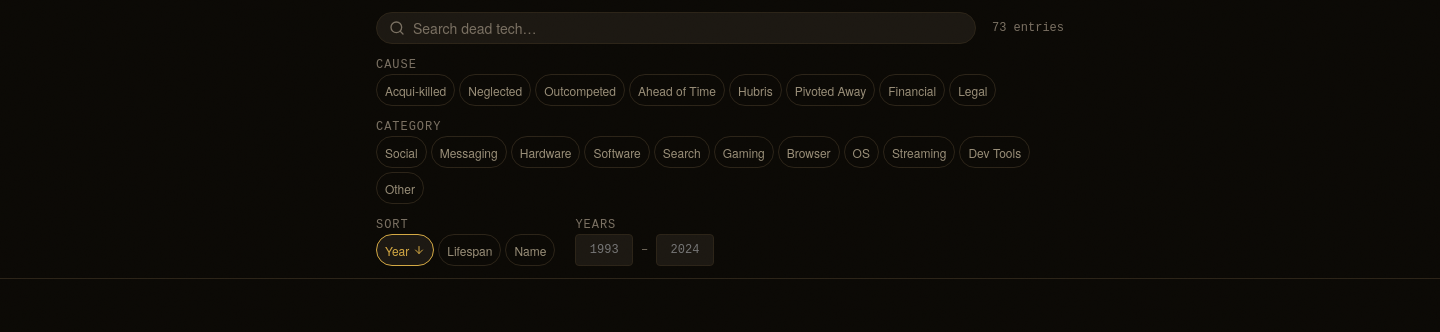
Test: FilterBar › clears all filters when clicking Clear filters
This screenshot has width=1440, height=332.
Click the button "Neglected": (495, 90) [459,74,531,106]
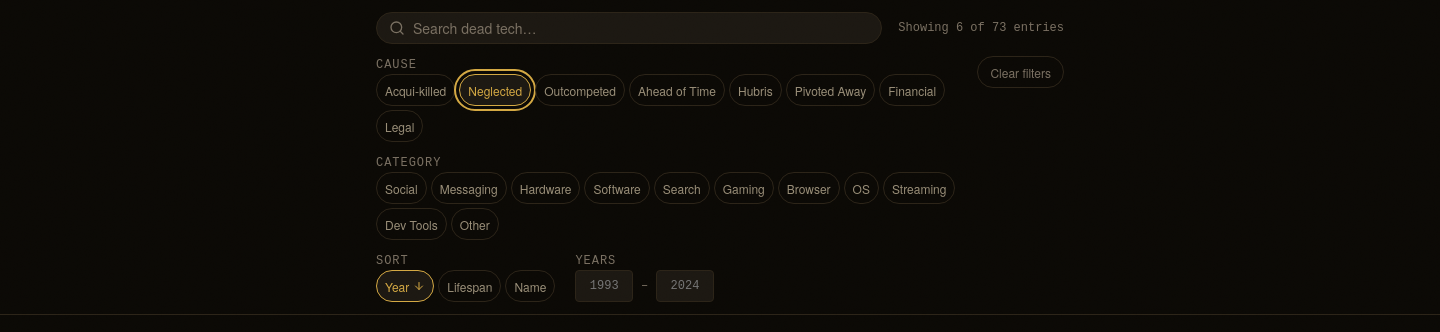
Click the button "Clear filters": (1021, 72) [977,56,1064,88]
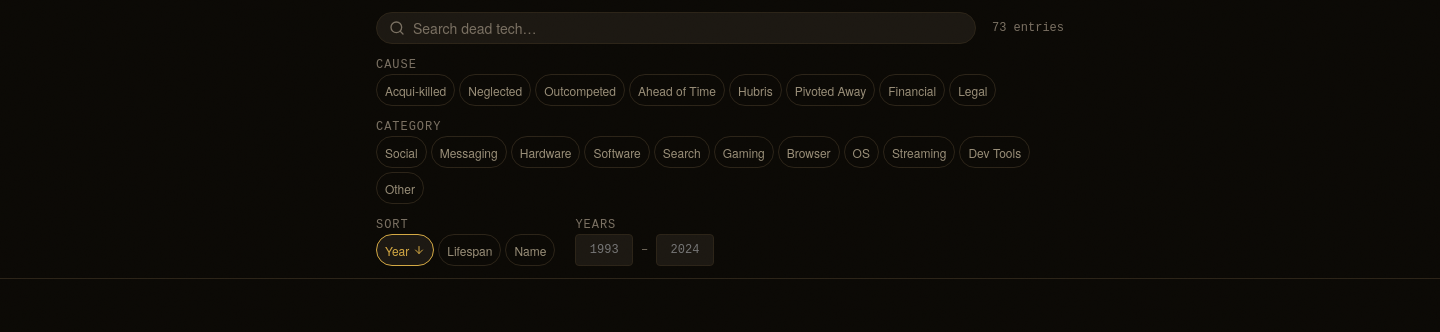
expect the button "Clear filters" is gone: met
